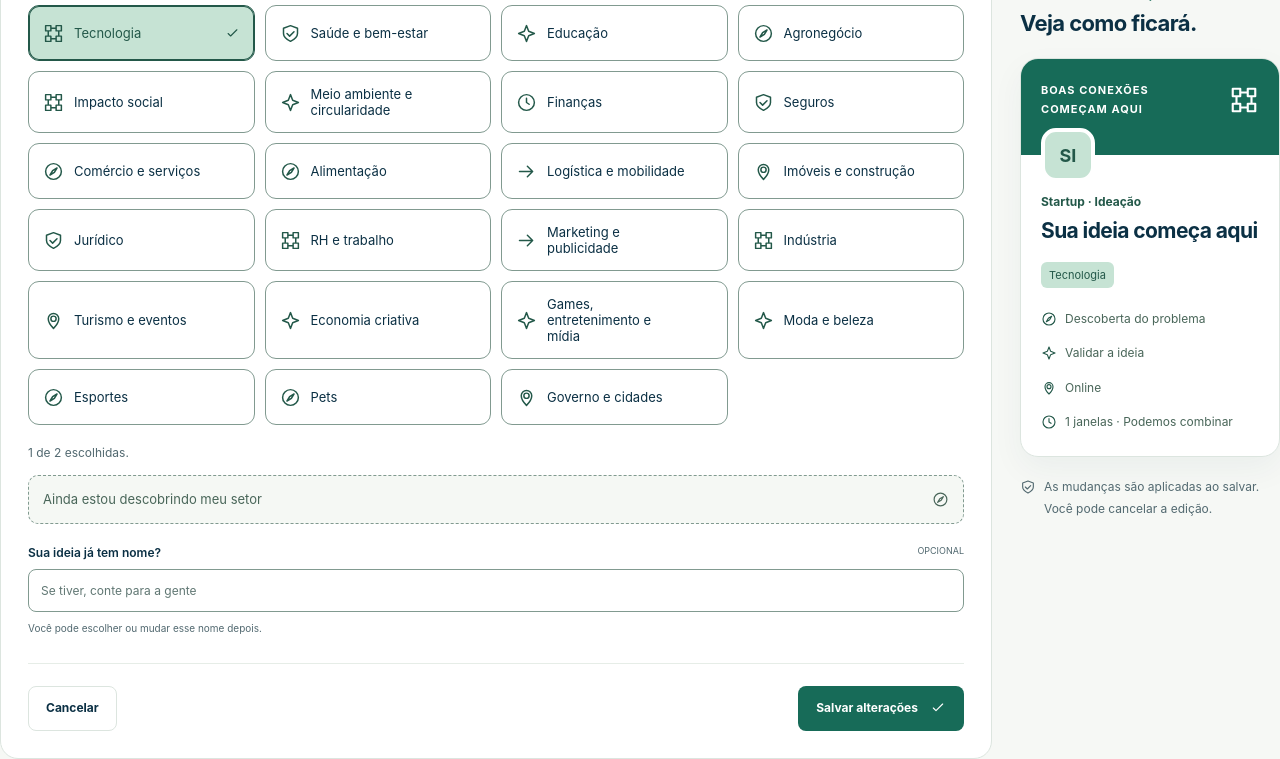
Test: Perfil em seis etapas e três fases com o Lumen › permite setor em descoberta e atualiza o nome da ideia na prévia
The image size is (1280, 759).
(page scrolled)
Click the button "Ainda estou descobrindo meu setor".
click(152, 499)  # box [28,475,964,524]
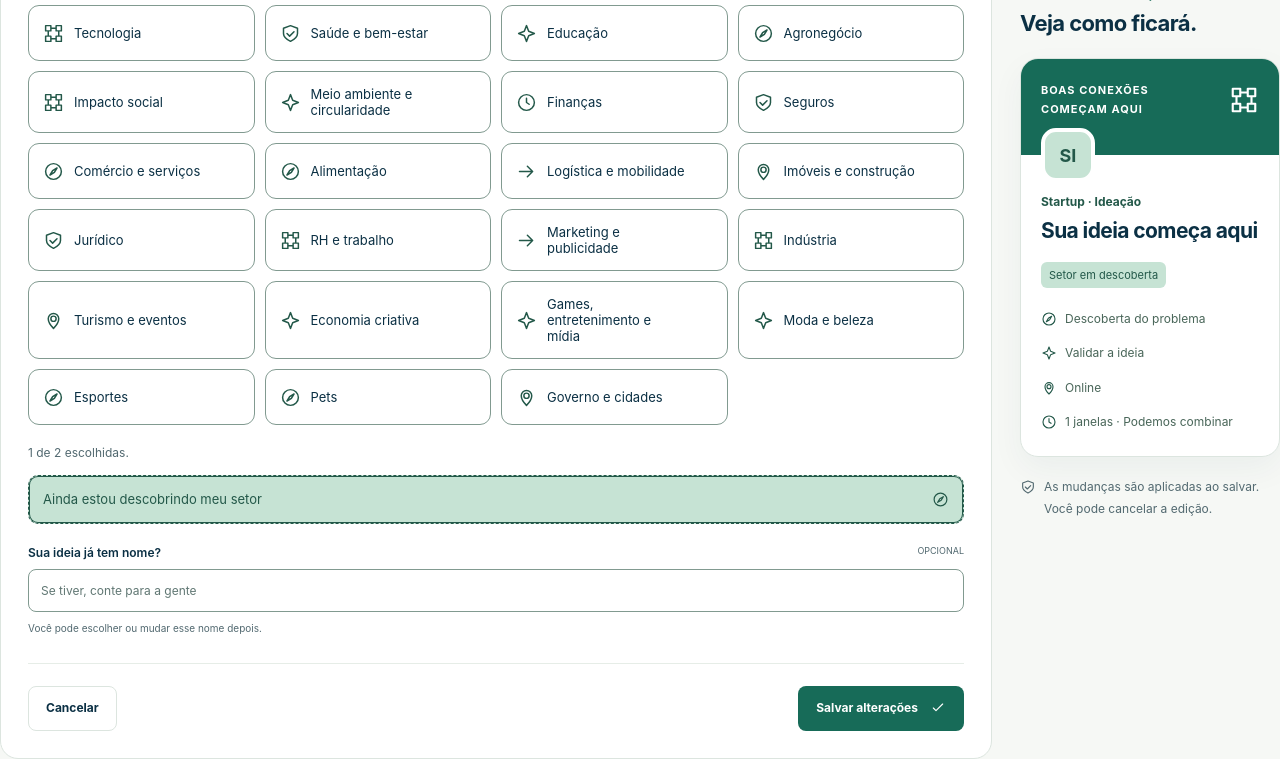
Type "Ideia da turma" into the field labelled "Sua ideia já tem nome? OPCIONAL".
click(496, 591); type("Ideia da turma")  # box [28,569,964,612]
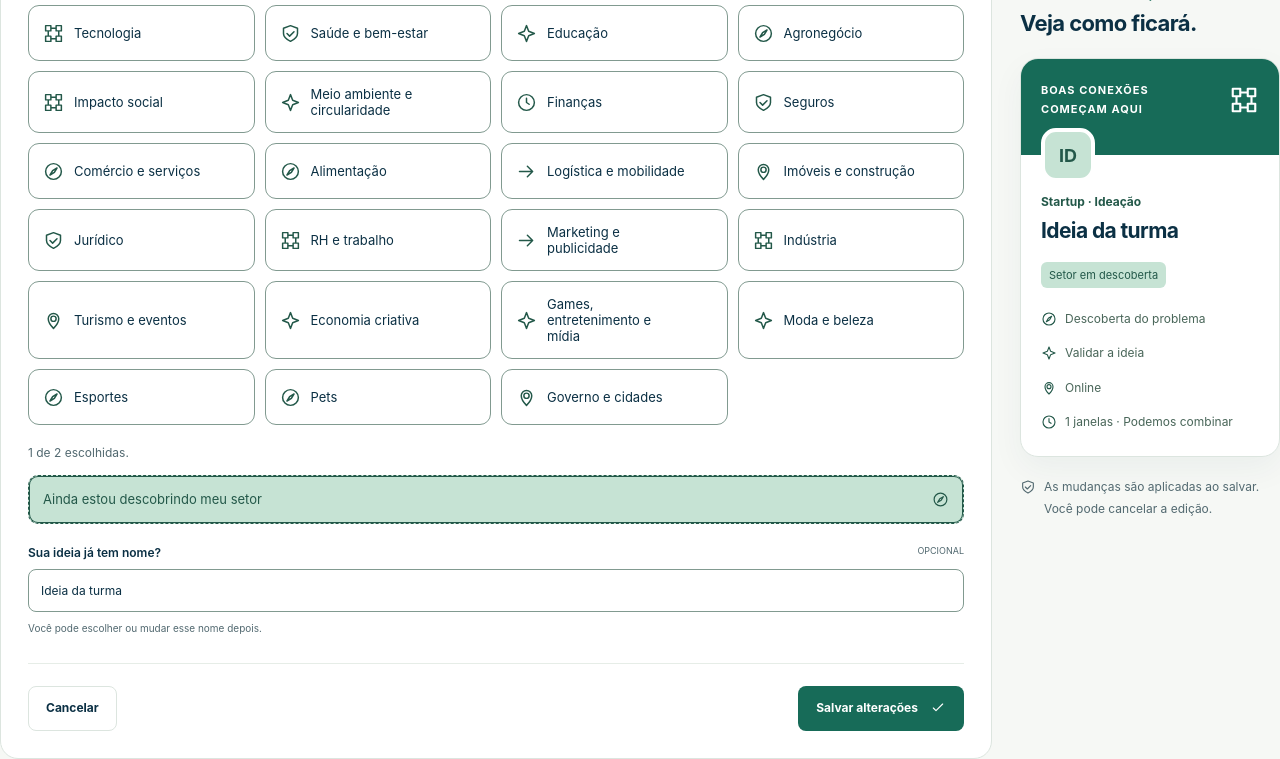
Expected: the heading "Ideia da turma" is shown, [1041,218,1178,243]
